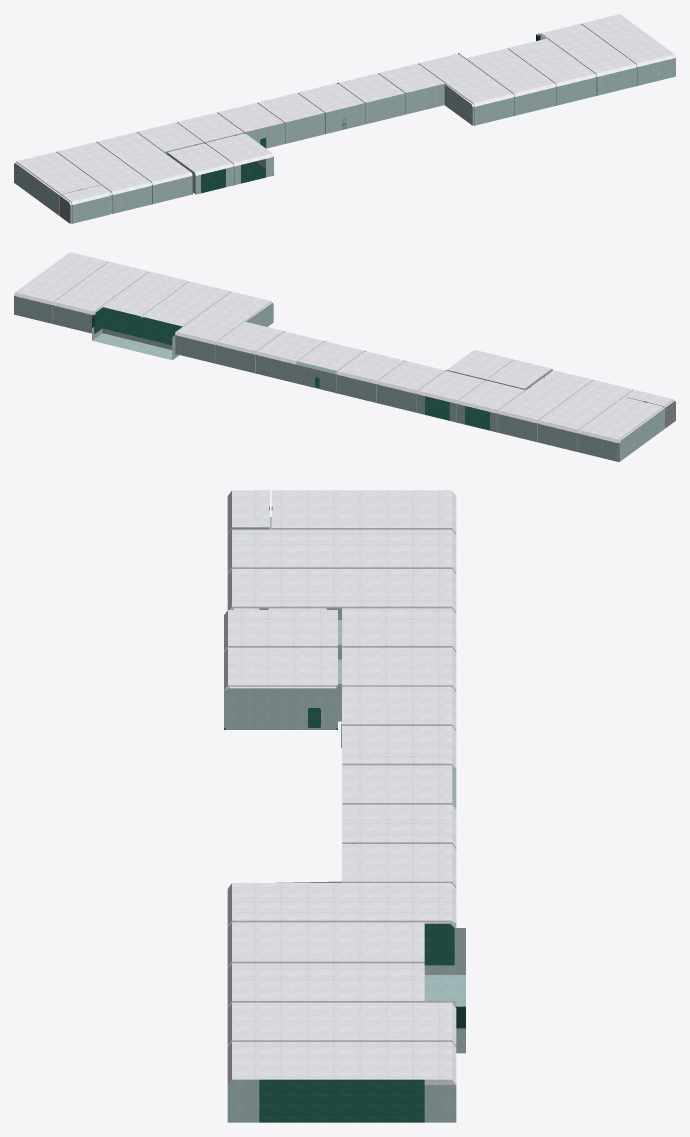
The model's file is carrier_hangar_sfs.obj.
The picture shows the model from 3 angles, top to bottom: view 1: azimuth 30°, elevation 25°; view 2: azimuth 150°, elevation 25°; view 3: azimuth 270°, elevation 25°; orthographic projection. The views are drawn at different scales.
Parts seen in each view (by area): view 1: CARRIER_HANGAR_SFS; view 2: CARRIER_HANGAR_SFS; view 3: CARRIER_HANGAR_SFS.
Part boxes in pixels (<box>): CARRIER_HANGAR_SFS: <box>14,14,675,223</box>; CARRIER_HANGAR_SFS: <box>14,252,675,461</box>; CARRIER_HANGAR_SFS: <box>224,490,465,1122</box>.
Size of the model in its own units: 159 by 6.57 by 27.55.
Materials: 7 (7 with a texture image).
